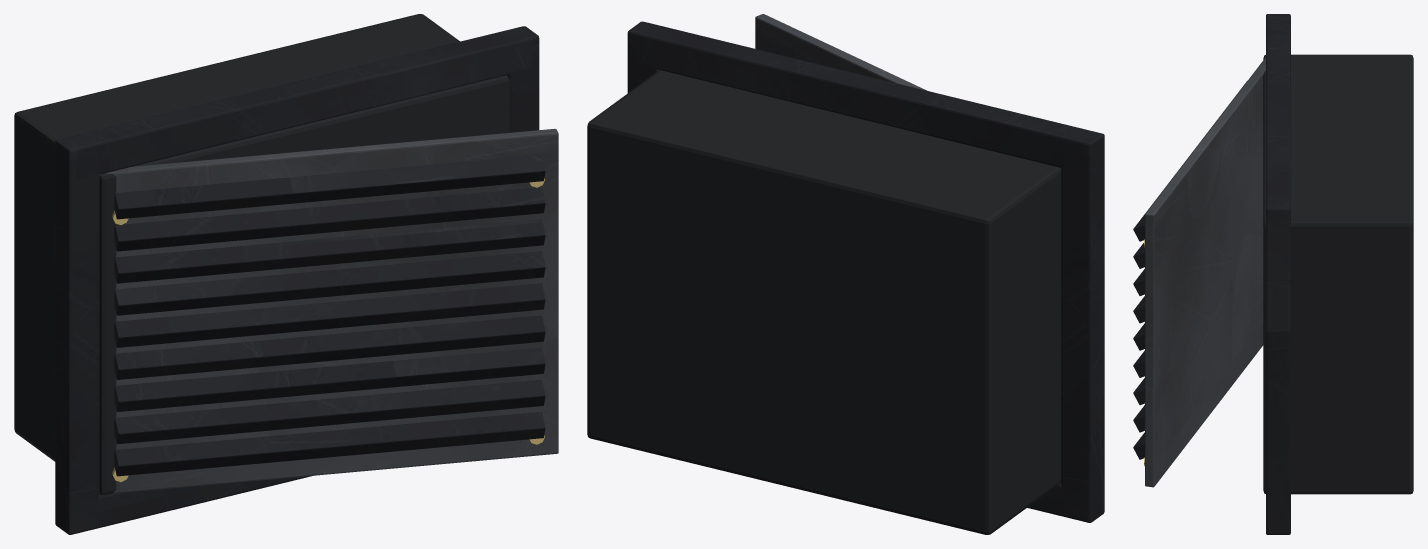
Rendered from vent_wall.glb.
The picture shows the model from 3 angles, left to right: view 1: azimuth 30°, elevation 25°; view 2: azimuth 150°, elevation 25°; view 3: azimuth 270°, elevation 25°; orthographic projection. The views are drawn at different scales.
Parts seen in each view (by area): view 1: grille, body; view 2: body, grille; view 3: body, grille.
Boxes of the visible parts, x1=… form: grille: x1=99, y1=128, x2=558, y2=494; body: x1=14, y1=14, x2=539, y2=534; body: x1=587, y1=21, x2=1104, y2=534; grille: x1=755, y1=14, x2=926, y2=90; body: x1=1263, y1=14, x2=1413, y2=534; grille: x1=1133, y1=57, x2=1265, y2=487.
Size of the model in its own units: 0.92 by 0.72 by 0.5594.
4 materials, 2 textured.
